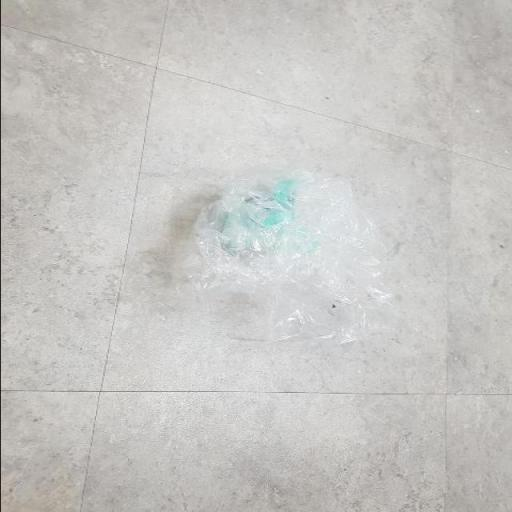plastic-bag: (174, 171, 398, 348)
